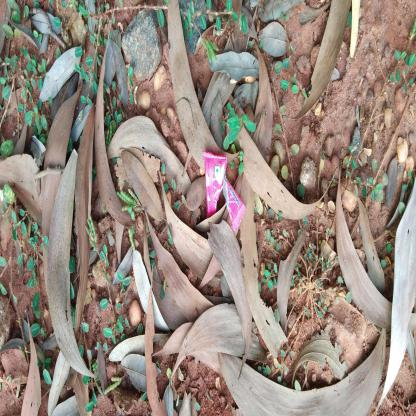plastik: (202, 150, 246, 232)
